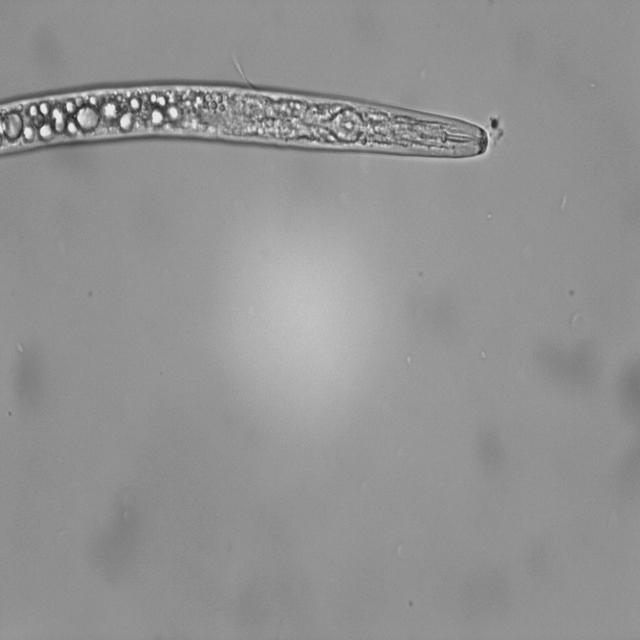Pratylenchus: (0, 77, 490, 174)
